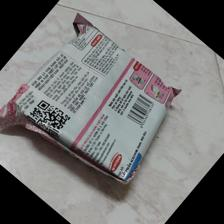Haohao: (4, 13, 184, 193)
